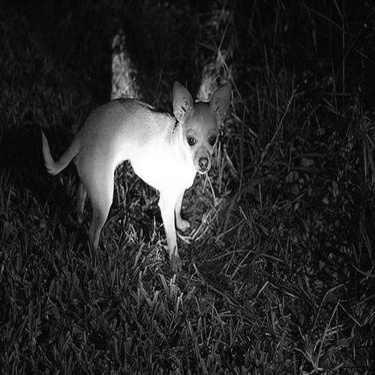dog: (34, 67, 250, 297)
